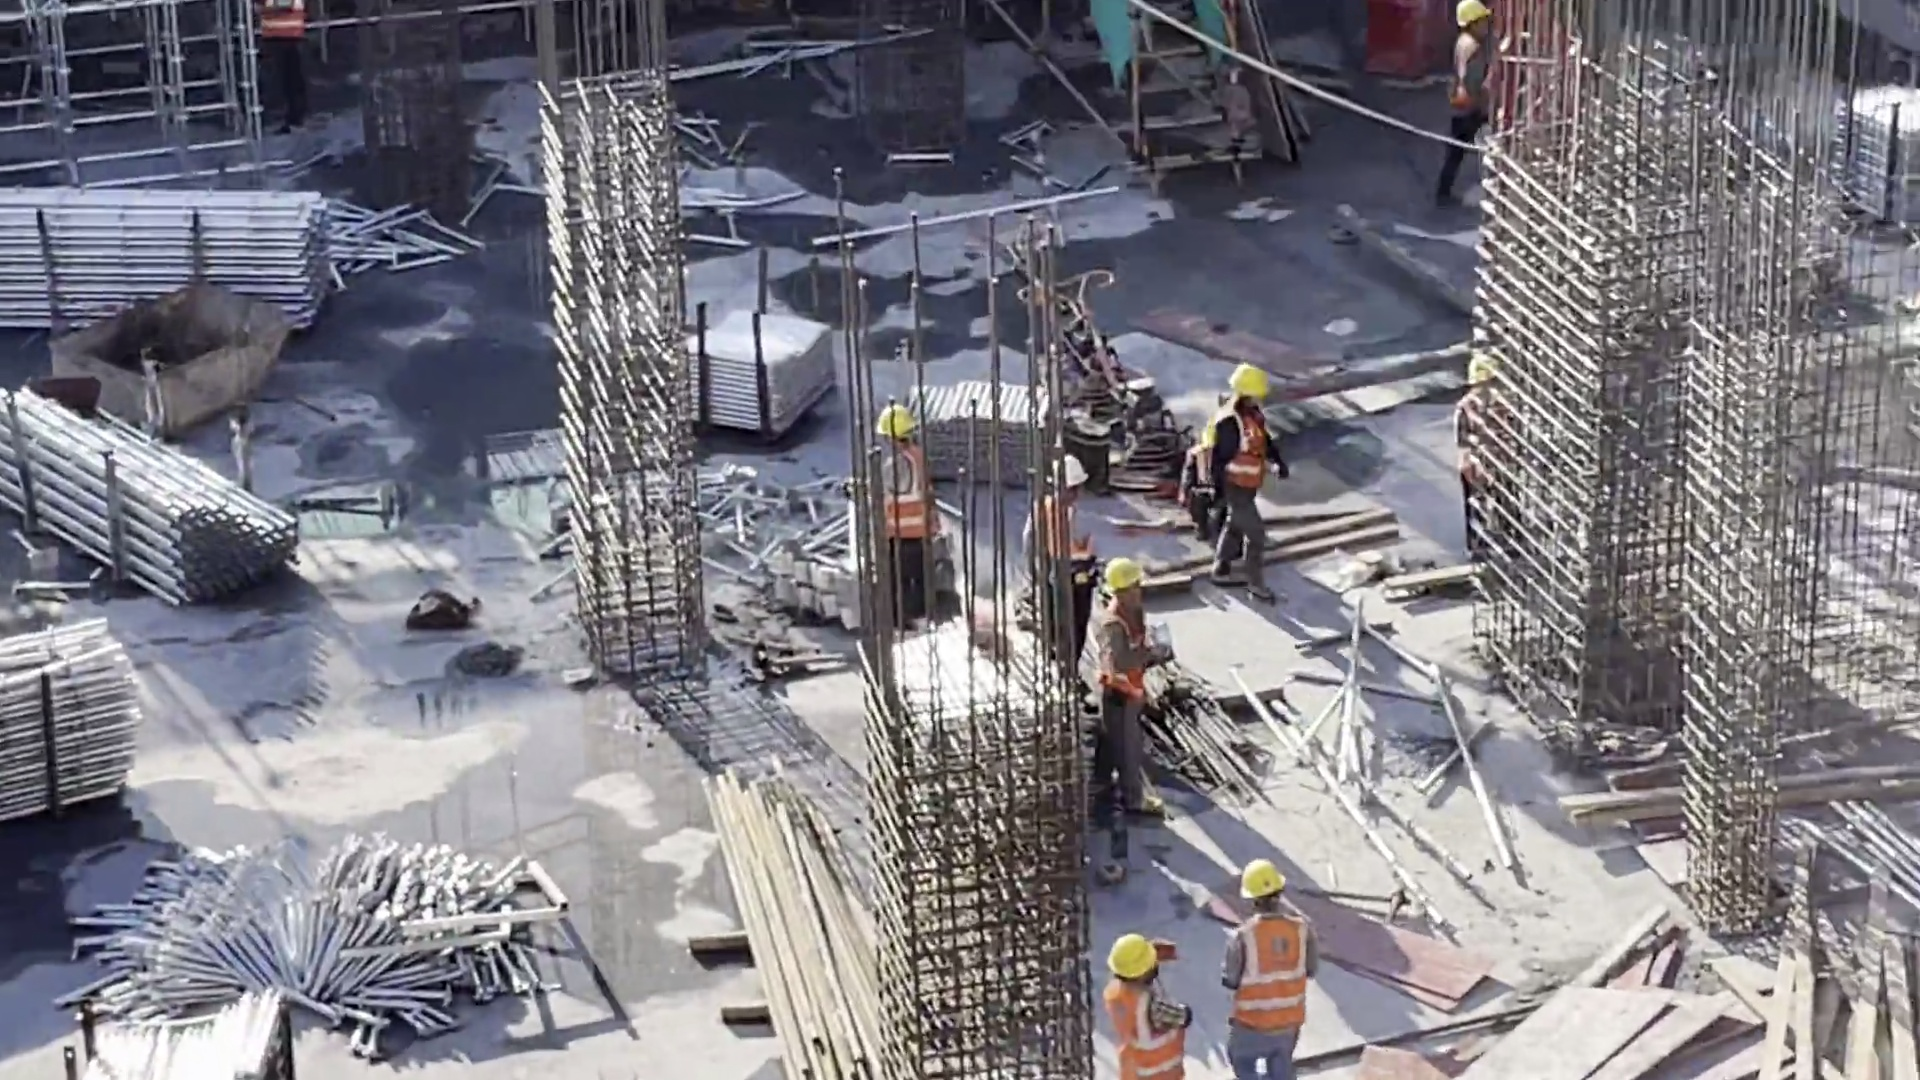board: (1452, 980, 1738, 1080)
helmet: (1103, 922, 1173, 990), (1230, 849, 1288, 906), (1040, 454, 1106, 493), (1221, 365, 1281, 408), (1104, 552, 1143, 613), (1460, 342, 1508, 387), (871, 404, 918, 439), (1455, 1, 1501, 22)
hopper: (52, 271, 292, 437)
person: (1212, 846, 1338, 1080), (1084, 539, 1175, 823), (1214, 358, 1296, 589), (1449, 353, 1530, 574), (871, 402, 948, 616), (1095, 915, 1193, 1080), (1434, 9, 1506, 226), (246, 1, 343, 141), (1028, 445, 1103, 627), (1184, 418, 1242, 531)
scaffold: (83, 838, 520, 1009), (1, 392, 281, 609), (1, 185, 345, 341), (54, 983, 323, 1080), (1, 641, 135, 817), (891, 375, 1066, 492), (682, 314, 827, 436), (1830, 75, 1920, 235)
vest: (1101, 975, 1203, 1080), (1225, 923, 1312, 1031), (1444, 31, 1499, 150), (1093, 606, 1155, 700), (874, 446, 934, 541), (1452, 393, 1512, 475), (1219, 412, 1278, 490), (1040, 497, 1077, 569)
